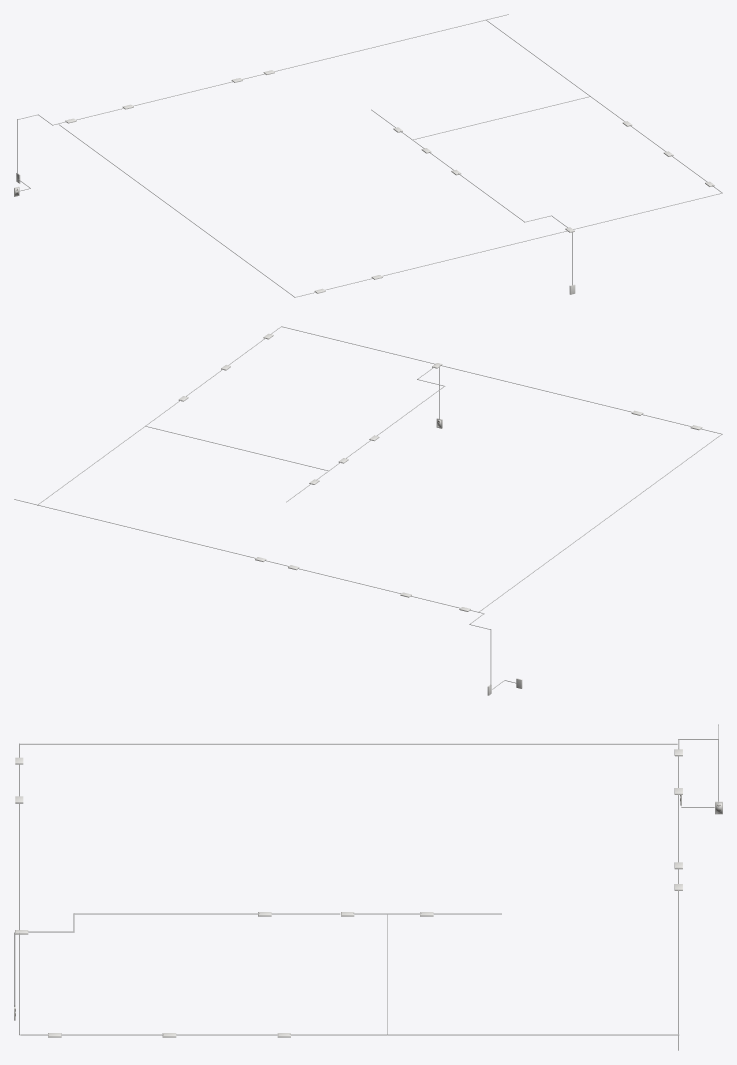
The model's file is Tomacorriente.obj.
3 renders of one model, top to bottom at view 1: azimuth 30°, elevation 25°; view 2: azimuth 150°, elevation 25°; view 3: azimuth 270°, elevation 25°, orthographic. The views are drawn at different scales.
Visible parts, largest first — view 1: no part large enough to name; view 2: no part large enough to name; view 3: Cylinder.026, Cylinder.022.
Boxes of the visible parts, x1,y1,x2,y2 form: Cylinder.026: [19, 743, 677, 744]; Cylinder.022: [289, 1034, 679, 1035].
Size of the model in its own units: 35.2 by 4.35 by 31.44.
